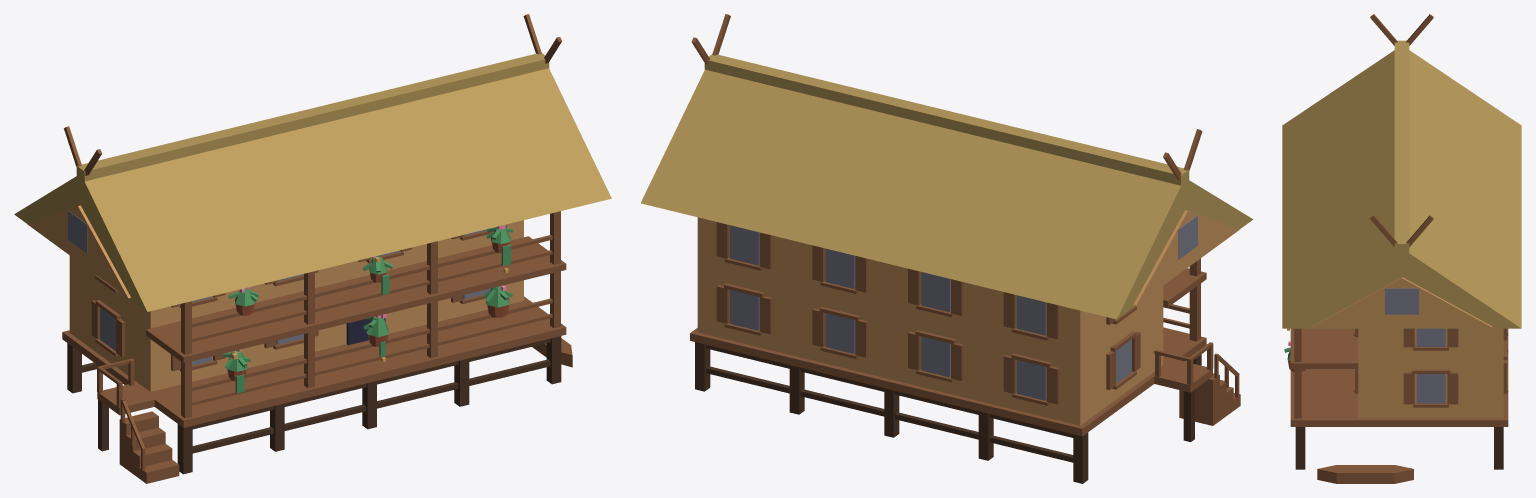
Rendered from house-2x1-2f-third-stilt-a.glb.
3 views of the same model, side by side, from view 1: azimuth 30°, elevation 25°; view 2: azimuth 150°, elevation 25°; view 3: azimuth 270°, elevation 25° (orthographic). The views are drawn at different scales.
Visible parts, largest first — view 1: house-2x1-2f-third-stilt-a; view 2: house-2x1-2f-third-stilt-a; view 3: house-2x1-2f-third-stilt-a.
Boxes of the visible parts, x1=… form: house-2x1-2f-third-stilt-a: x1=14, y1=14, x2=611, y2=483; house-2x1-2f-third-stilt-a: x1=641, y1=14, x2=1252, y2=483; house-2x1-2f-third-stilt-a: x1=1282, y1=14, x2=1521, y2=483.
Size of the model in its own units: 2.02 by 1.24 by 0.99.
1 material, 1 textured.
